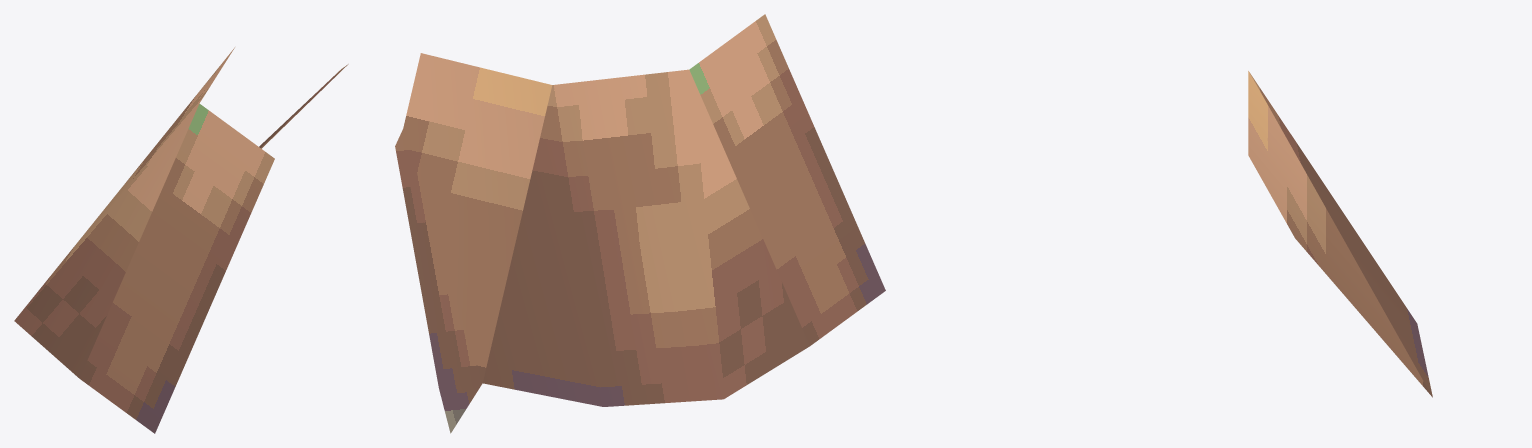
3 renders of one model, left to right at view 1: azimuth 30°, elevation 25°; view 2: azimuth 150°, elevation 25°; view 3: azimuth 270°, elevation 25°, orthographic. The views are drawn at different scales.
Size of the model in its own units: 1.29 by 0.9971 by 1.5.
2 materials, 2 textured.
